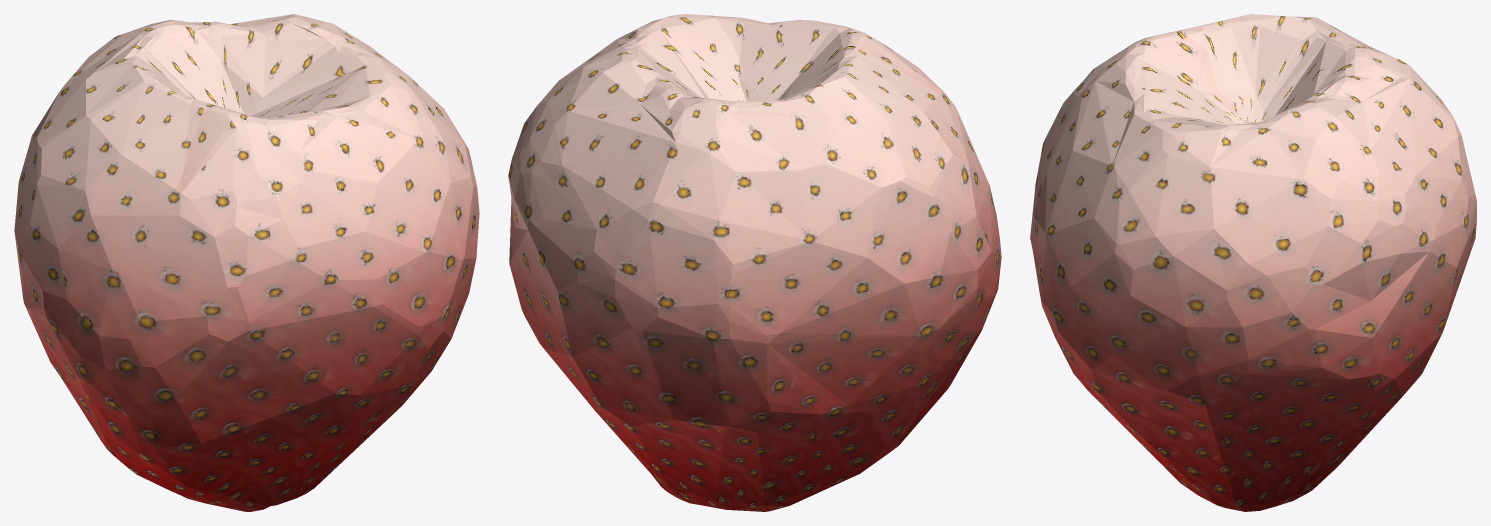
3 renders of one model, left to right at view 1: azimuth 30°, elevation 25°; view 2: azimuth 150°, elevation 25°; view 3: azimuth 270°, elevation 25°, orthographic. The views are drawn at different scales.
Parts seen in each view (by area): view 1: _000_Meshed; view 2: _000_Meshed; view 3: _000_Meshed.
Boxes of the visible parts, left/top/right/bottom form: _000_Meshed: left=14, top=14, right=479, bottom=511; _000_Meshed: left=508, top=14, right=1001, bottom=511; _000_Meshed: left=1030, top=14, right=1476, bottom=511.
Size of the model in its own units: 0.1127 by 0.1067 by 0.1146.
Materials: 1 (1 with a texture image).
